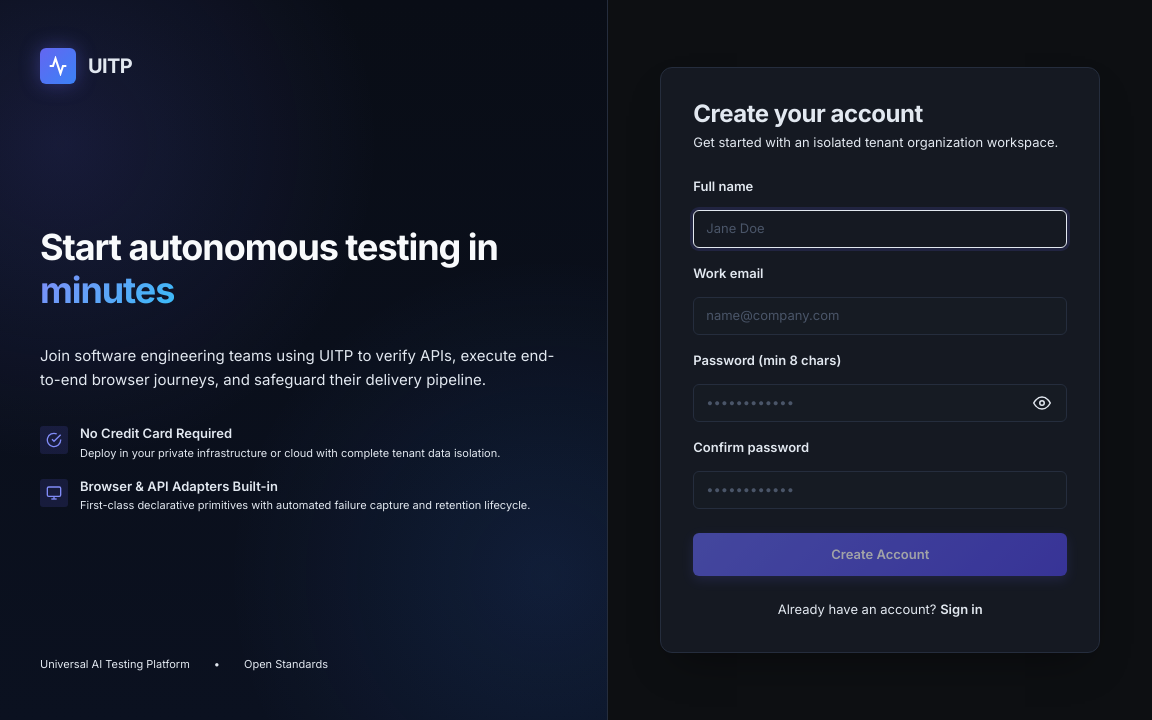
it: Auth Flow — Login & Register Pages › renders register page and validates password mismatch
Expected: the heading "Create your account" is shown, x1=693 y1=99 x2=923 y2=128
Step 1. Type "Alice Developer" into the field labelled "Full name" → x=880, y=229, box x1=693 y1=210 x2=1067 y2=248
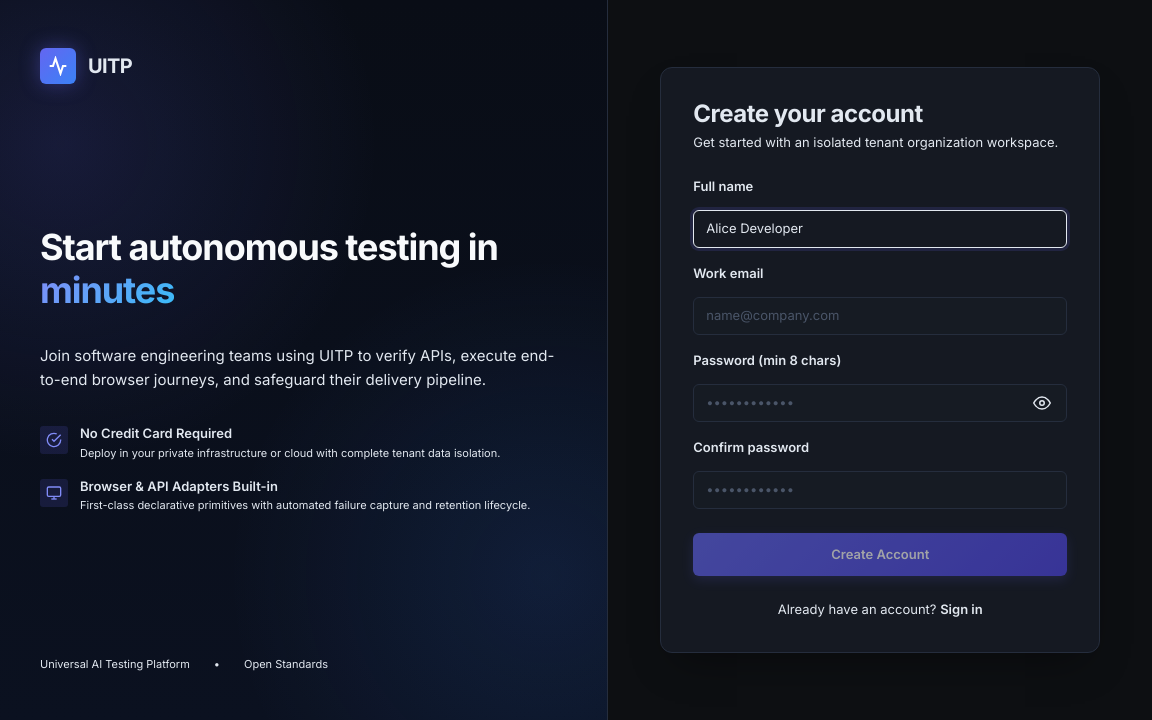
Step 2. Type "alice@example.com" into the field labelled "Work email" → x=880, y=316, box x1=693 y1=297 x2=1067 y2=335
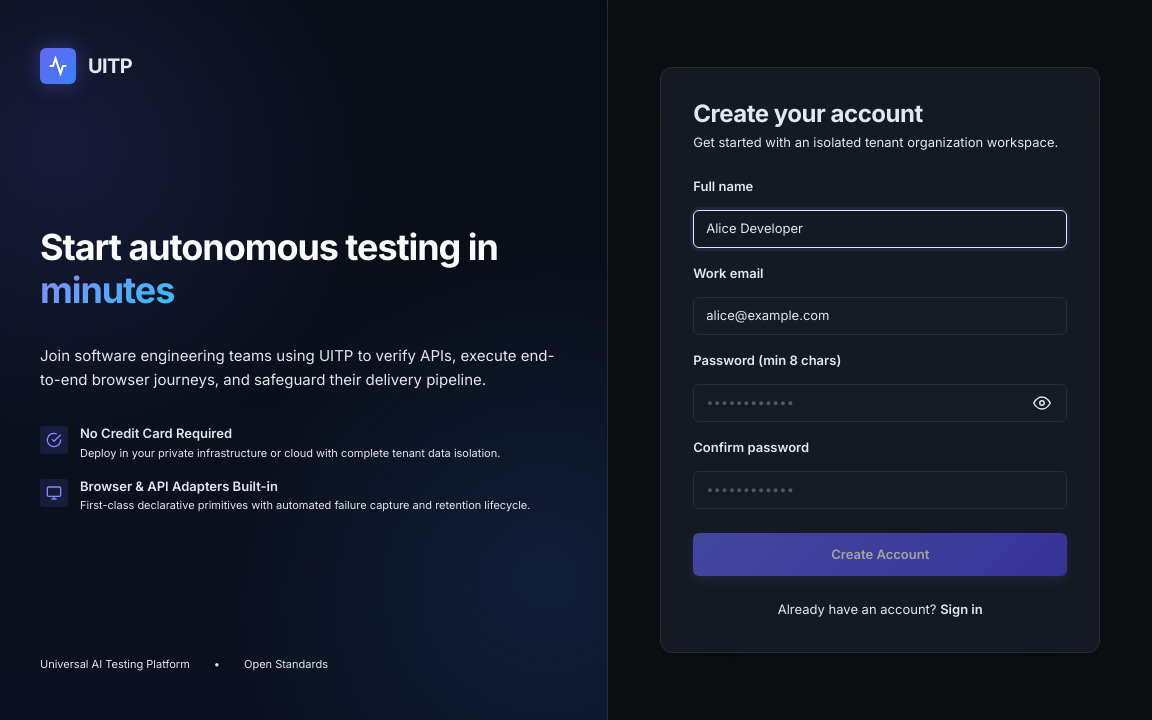
Step 3. Type "Password123!" into the password field labelled "Password (min 8 chars)" → x=880, y=403, box x1=693 y1=384 x2=1067 y2=422
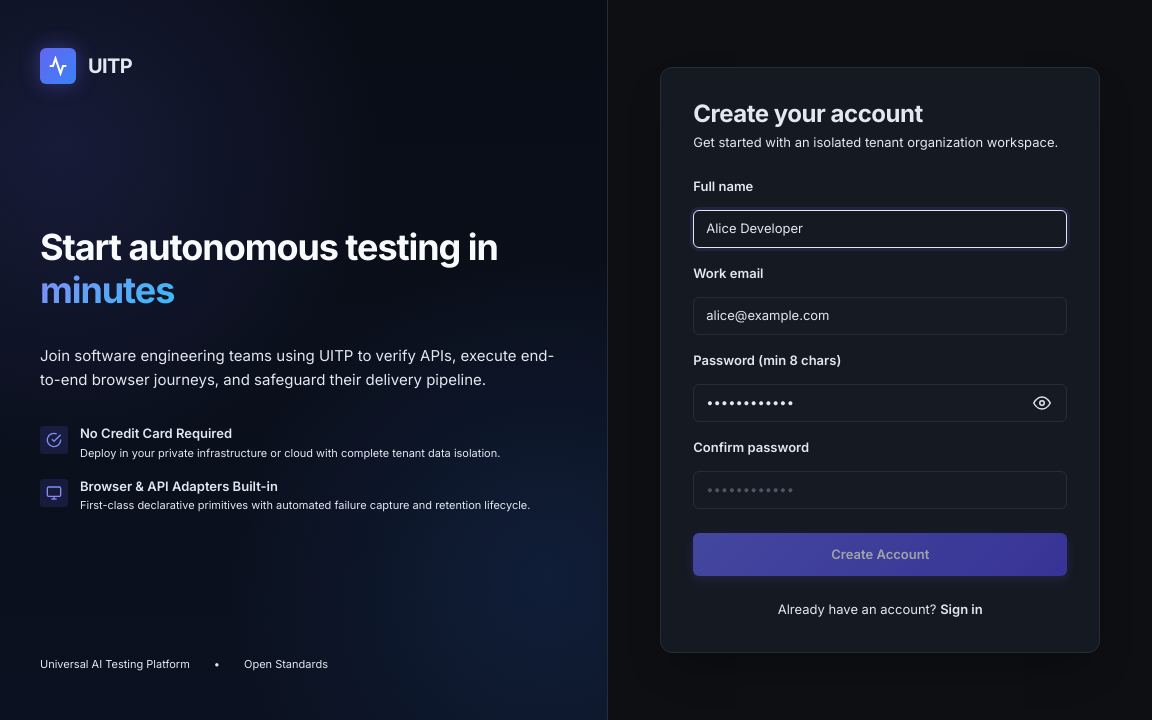
Step 4. Type "DifferentPass123!" into the password field labelled "Confirm password" → x=880, y=490, box x1=693 y1=471 x2=1067 y2=509
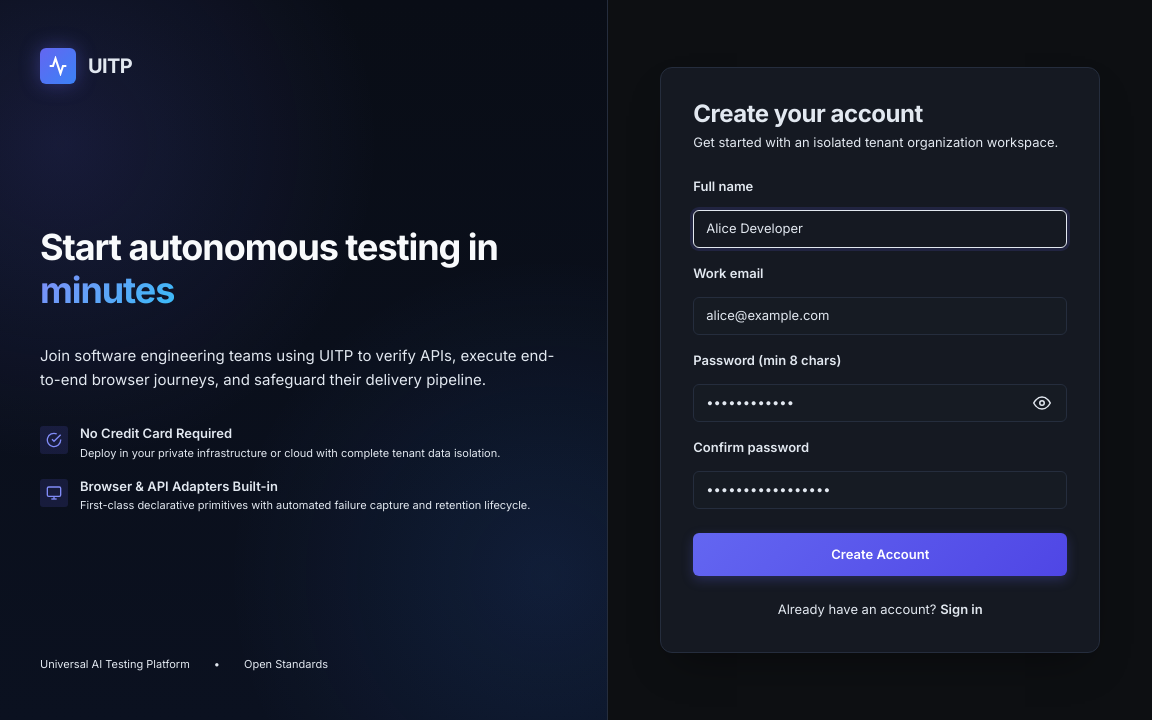
Step 5. Click the button "Create Account" → x=880, y=554, box x1=693 y1=533 x2=1067 y2=576
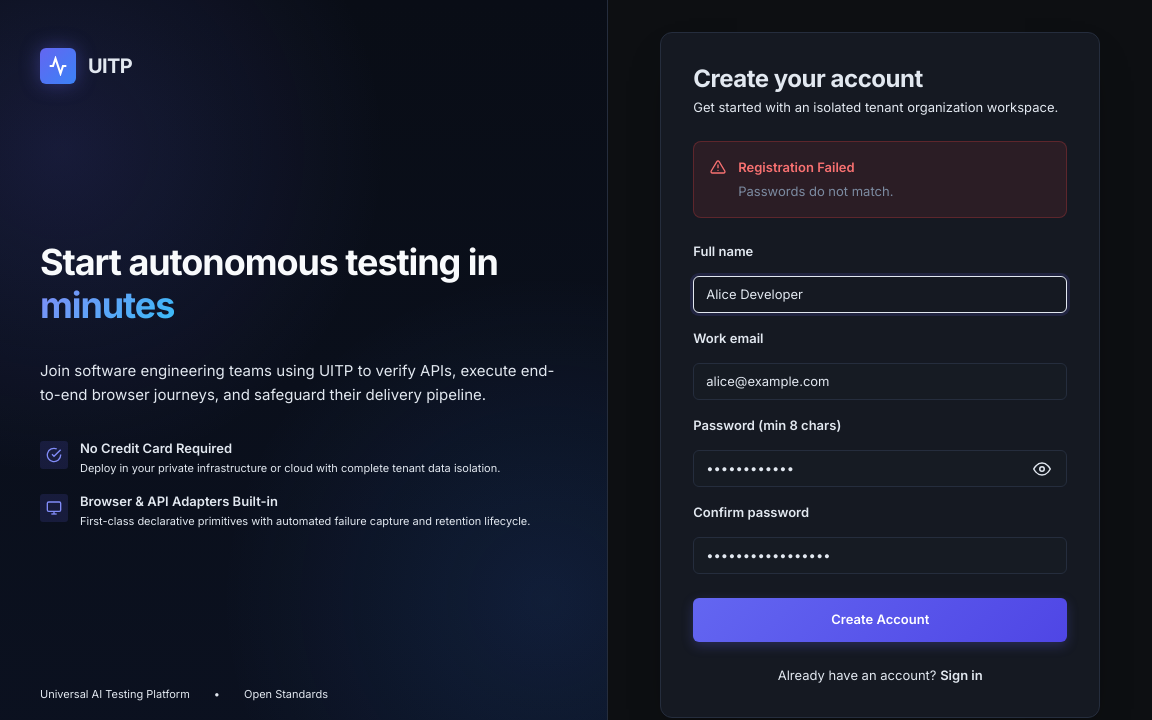
Now the text "Passwords do not match." is shown, box x1=738 y1=183 x2=893 y2=199
